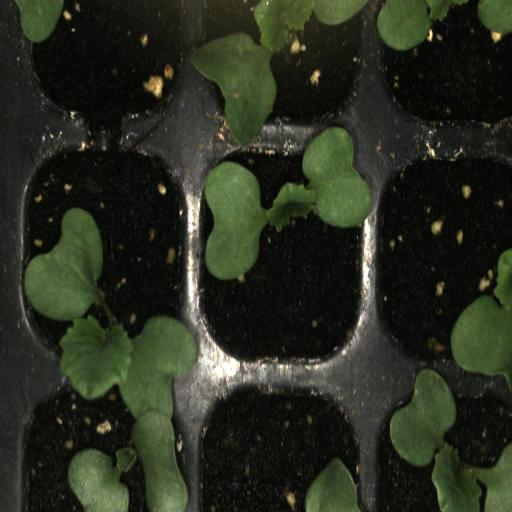seedling: (16, 121, 196, 380), (192, 140, 373, 372), (11, 375, 201, 512), (196, 0, 369, 135), (375, 364, 512, 512)
